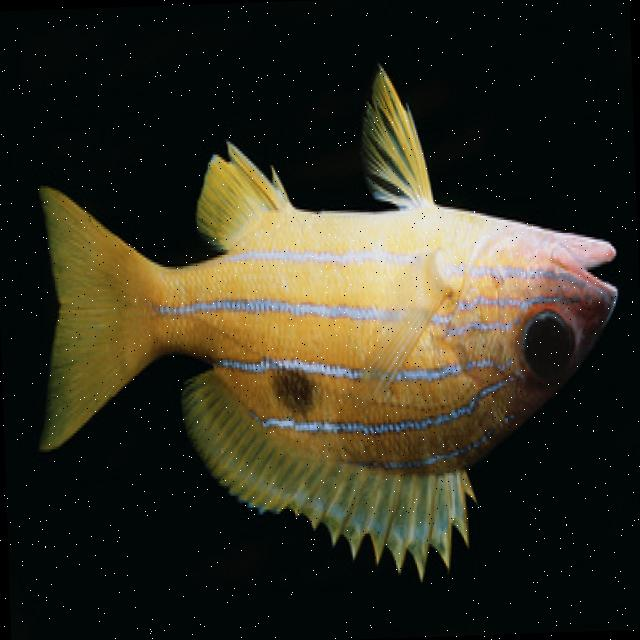ikan: (25, 55, 630, 598)
